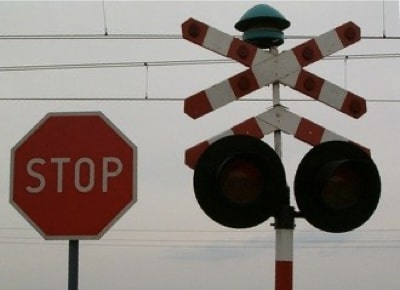StopSign: (8, 110, 140, 242)
